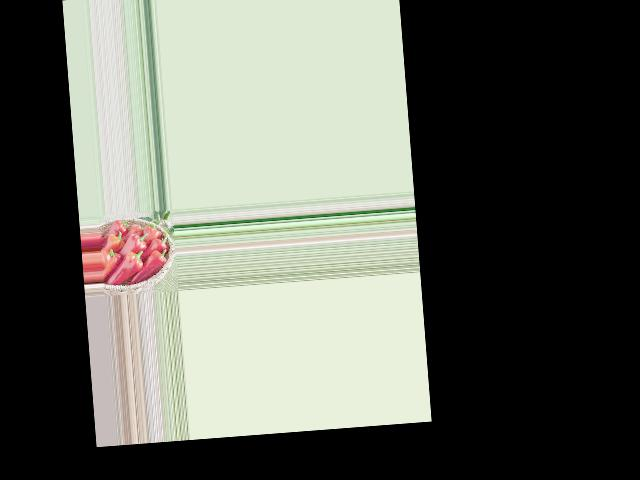bell_pepper: (148, 234, 170, 253)
